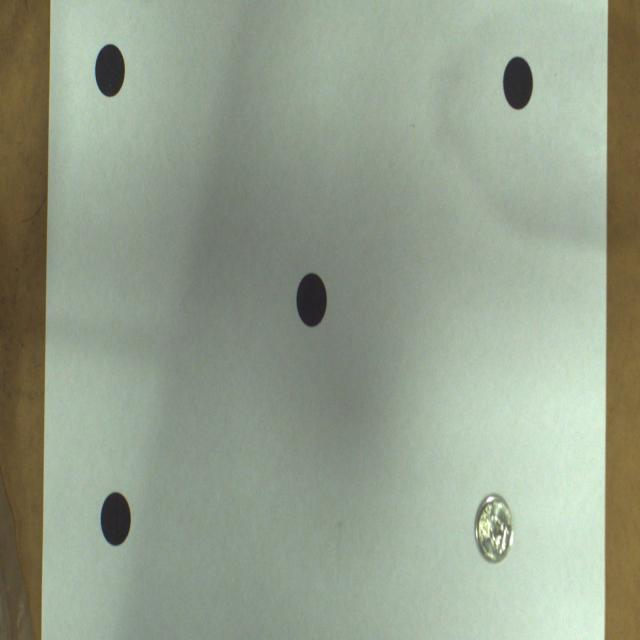space: (100, 491, 131, 547), (296, 273, 328, 327), (95, 44, 125, 98), (502, 56, 532, 109)
